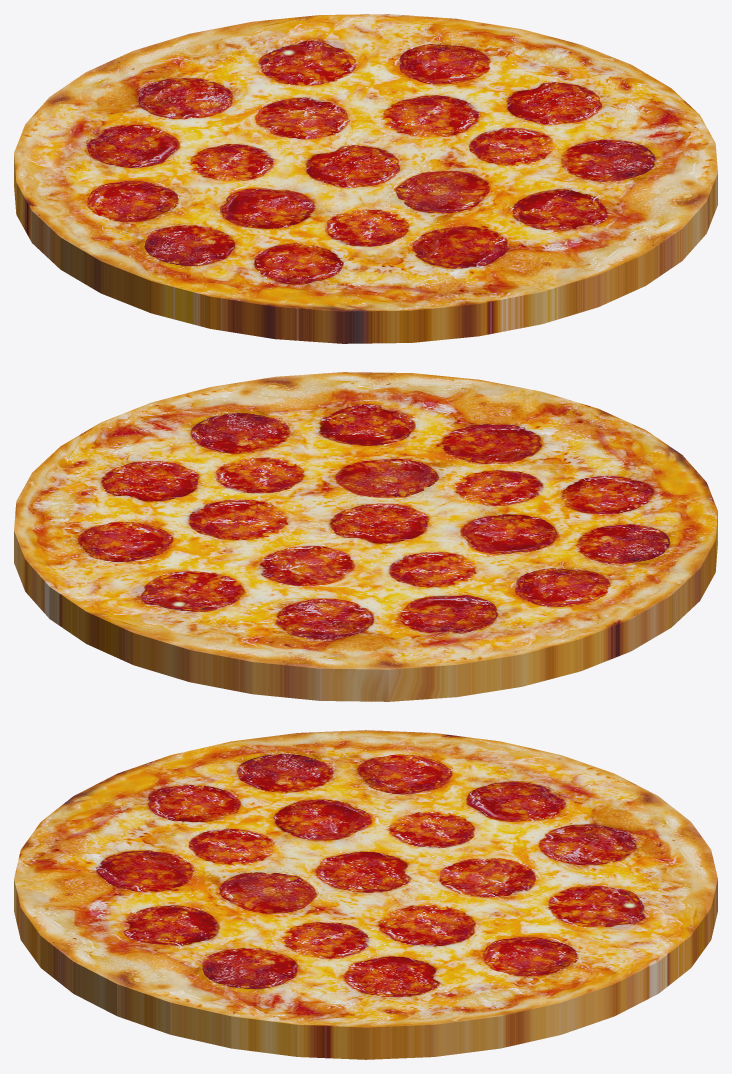
File: 4paintpizzaintuntitled.glb
3 renders of one model, top to bottom at view 1: azimuth 30°, elevation 25°; view 2: azimuth 150°, elevation 25°; view 3: azimuth 270°, elevation 25°, orthographic.
Visible parts, largest first — view 1: Cylinder; view 2: Cylinder; view 3: Cylinder.
Part boxes in pixels (x1,y1,x2,y2): Cylinder: [14, 14, 717, 343]; Cylinder: [14, 372, 717, 701]; Cylinder: [14, 730, 717, 1059].
Bounding box in the file's own units: 4.4 × 0.2223 × 4.4.
1 material, 1 textured.
